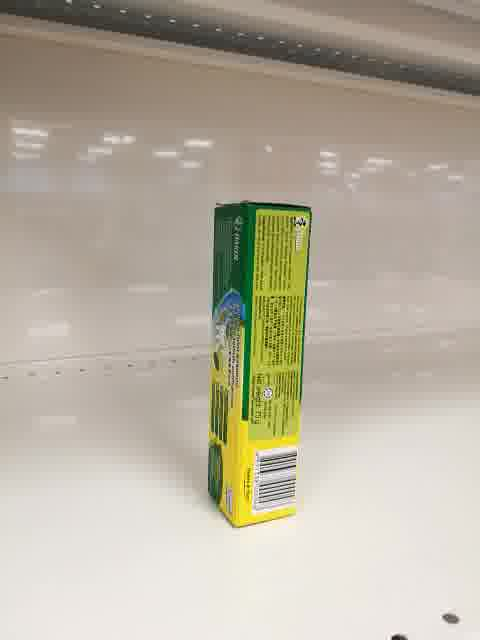toothpaste: (206, 201, 312, 529)
